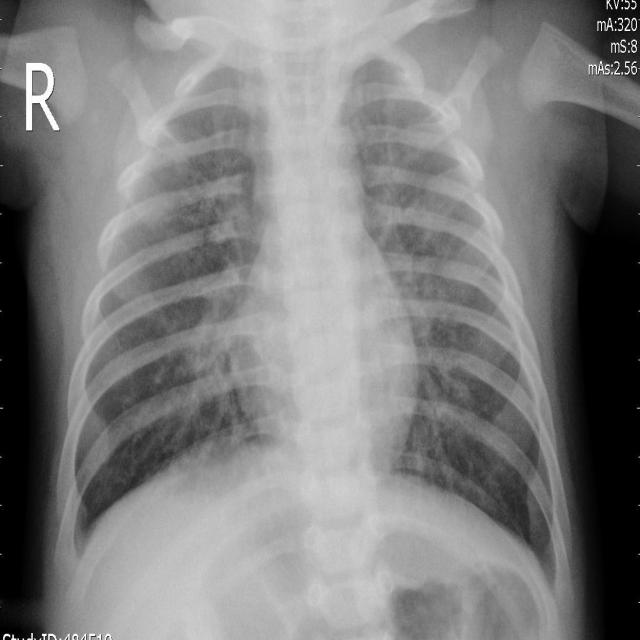low-pneumonia: (363, 106, 467, 399), (172, 174, 261, 418)
